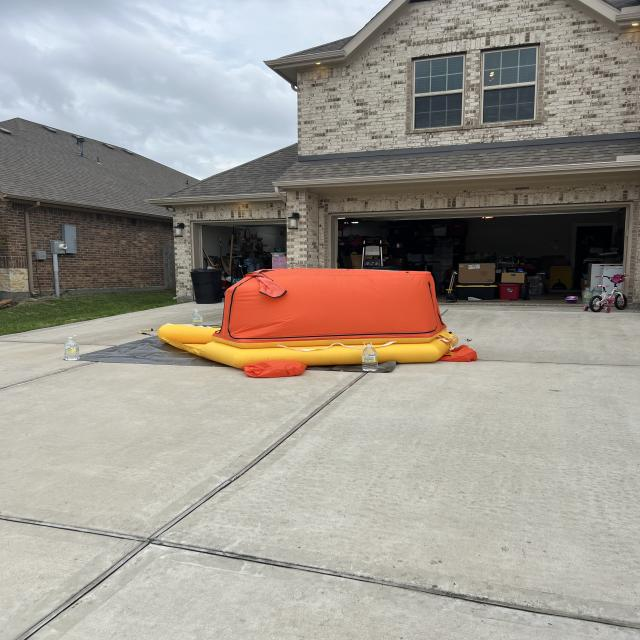Multi-person_life_raft: (156, 268, 478, 379)
